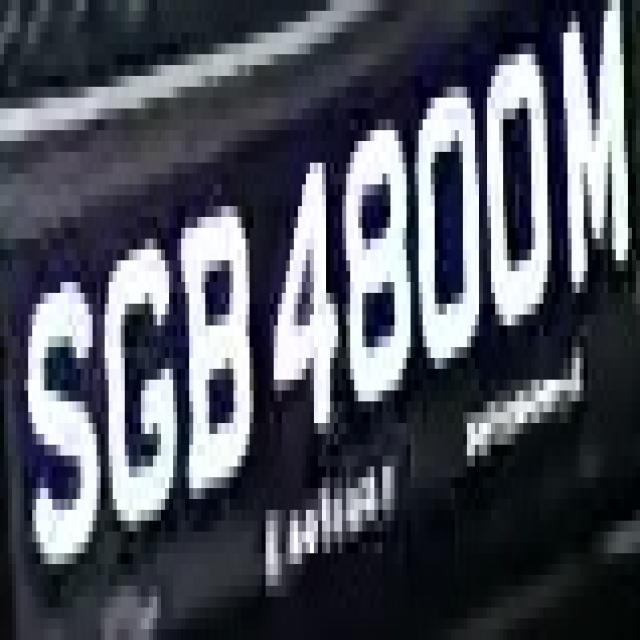0: (479, 32, 559, 402), (411, 54, 487, 380)
4: (254, 141, 346, 434)
8: (322, 98, 419, 434)
B: (165, 184, 250, 499)
G: (89, 195, 185, 564)
M: (555, 11, 636, 304)
S: (20, 238, 97, 596)
